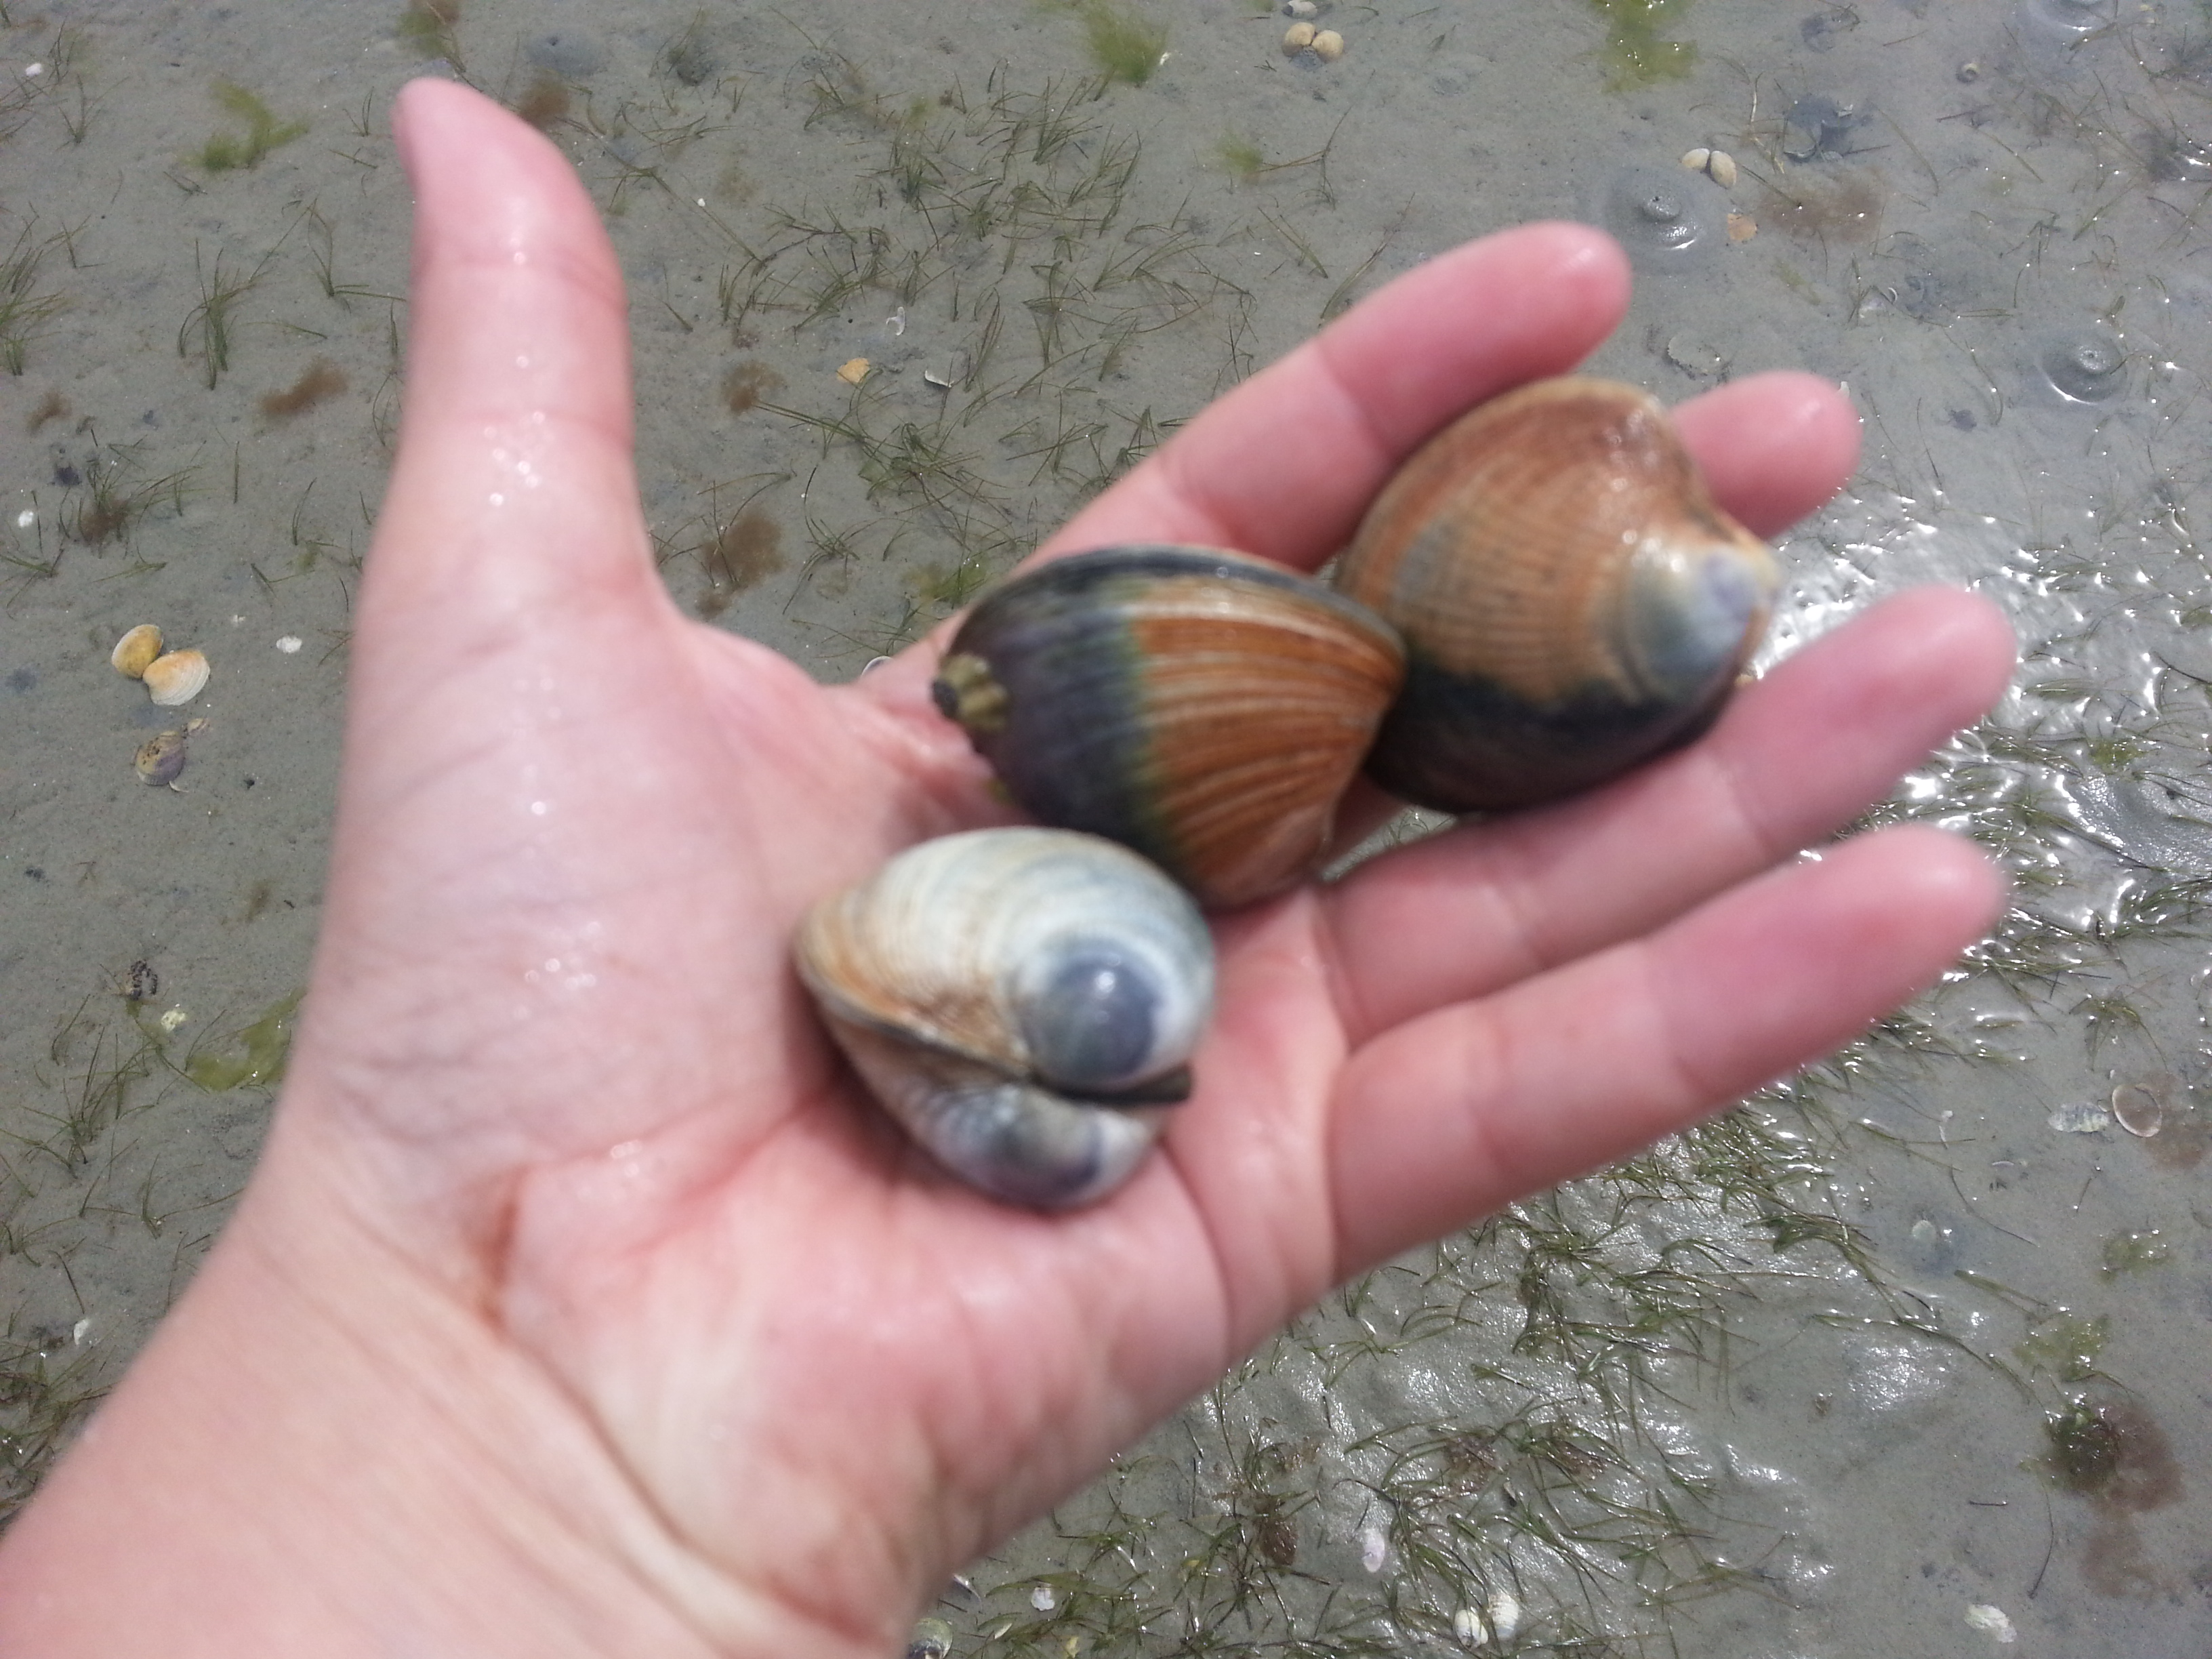cockle: (1318, 364, 1791, 821), (927, 538, 1416, 925), (782, 821, 1223, 1222)
